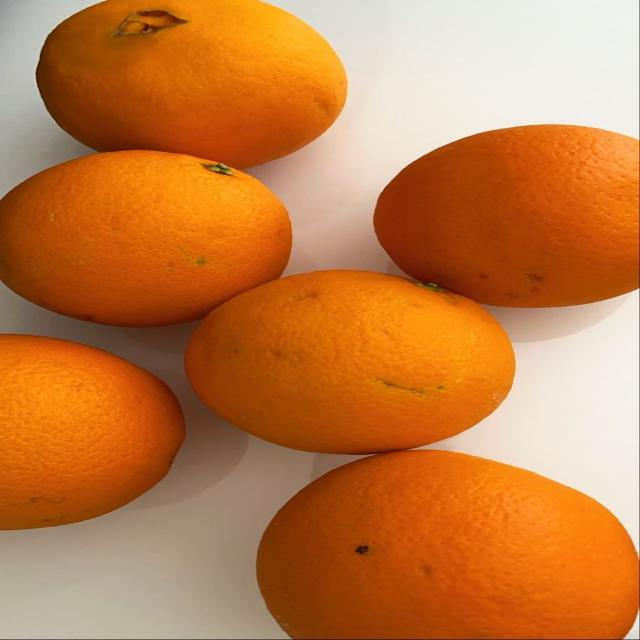orange: (257, 451, 637, 639), (186, 270, 513, 453), (37, 0, 347, 167), (0, 151, 291, 326), (375, 125, 638, 307), (0, 335, 183, 529)
